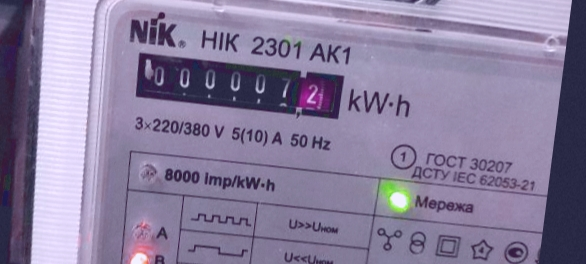0: (151, 61, 168, 87), (228, 68, 245, 93), (253, 70, 269, 95), (203, 66, 219, 90), (177, 65, 193, 88)
2: (305, 81, 321, 105)
7: (279, 74, 293, 99)
screen: (123, 37, 356, 131)
